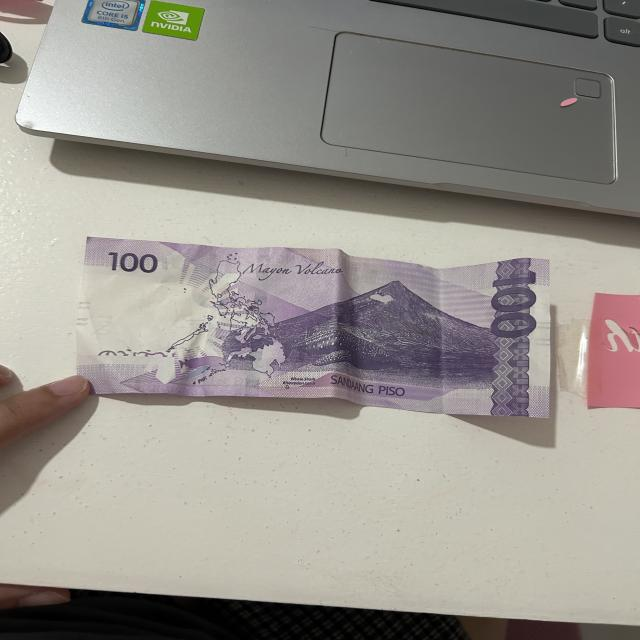100_whale: (281, 330, 402, 371)
100_whale_watermark: (178, 354, 230, 372)
value_watermark: (94, 314, 115, 336)
